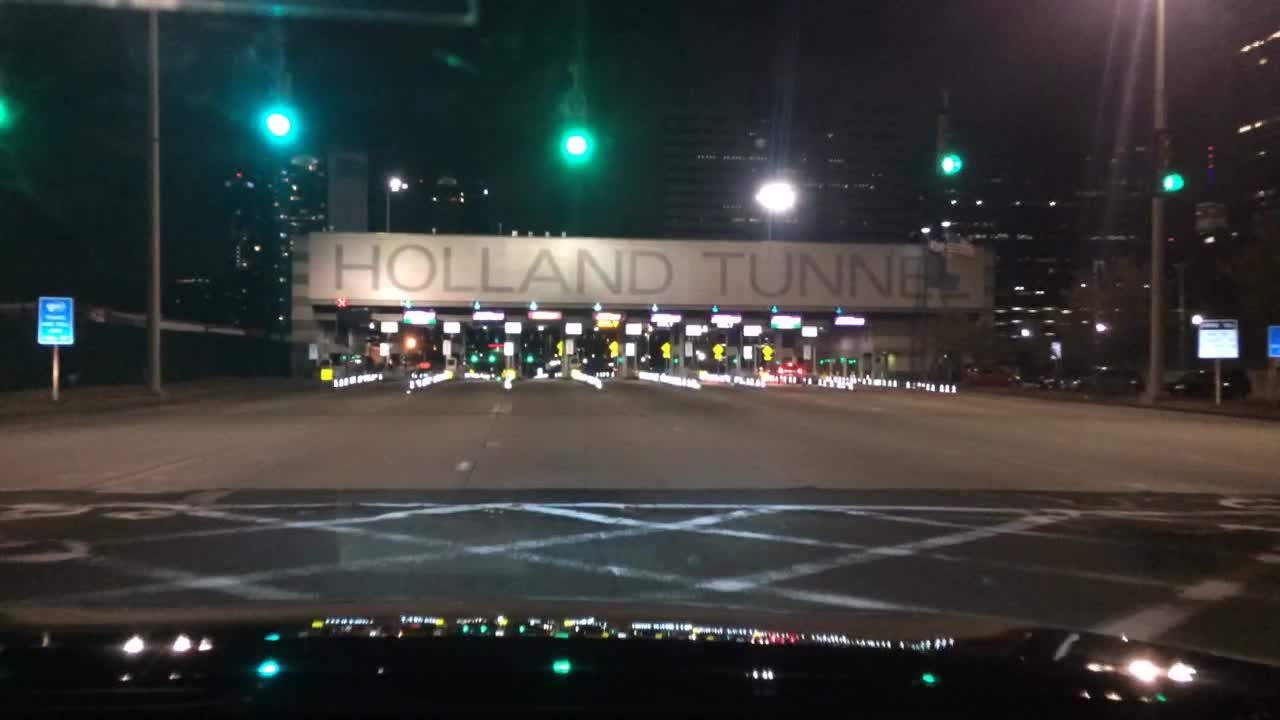car: (1167, 367, 1250, 401), (1076, 370, 1143, 396), (961, 364, 1022, 387), (1040, 370, 1080, 389), (779, 359, 805, 385), (408, 364, 430, 379)
traffic light: (261, 73, 300, 147), (1151, 125, 1186, 195), (561, 95, 595, 167), (935, 110, 964, 180), (0, 85, 15, 140)
traffic sign: (36, 294, 75, 347), (1198, 318, 1238, 360), (1266, 323, 1279, 358), (658, 339, 670, 362), (711, 341, 722, 362), (606, 341, 617, 360), (761, 344, 772, 363), (554, 339, 564, 357)
